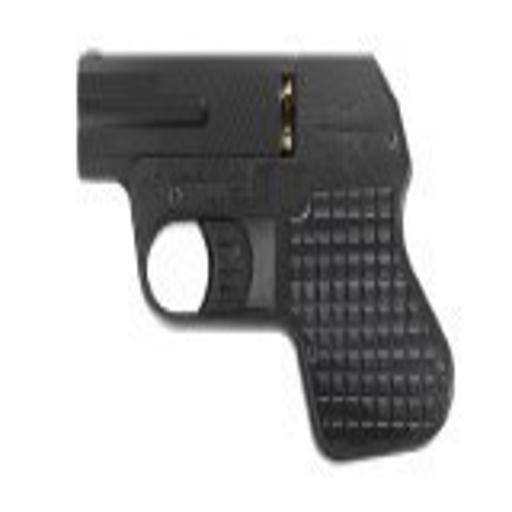Handgun: (72, 41, 456, 472)
